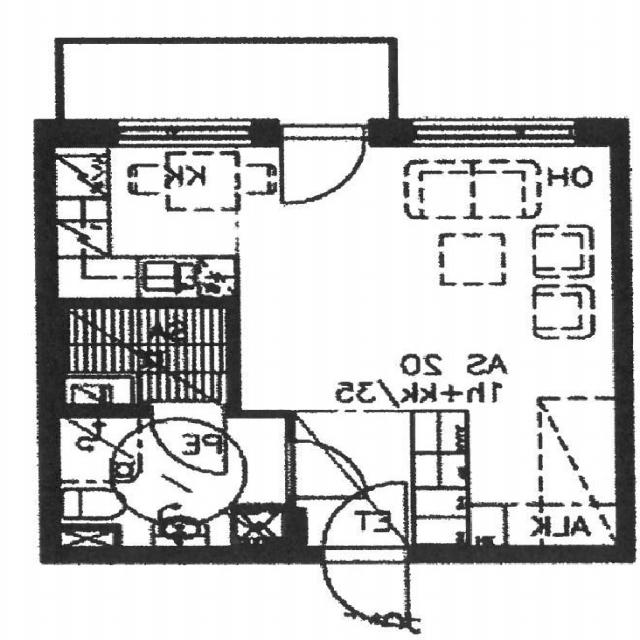door: (282, 118, 366, 212), (323, 481, 408, 563), (323, 547, 408, 629), (152, 404, 225, 474), (285, 440, 367, 497)
